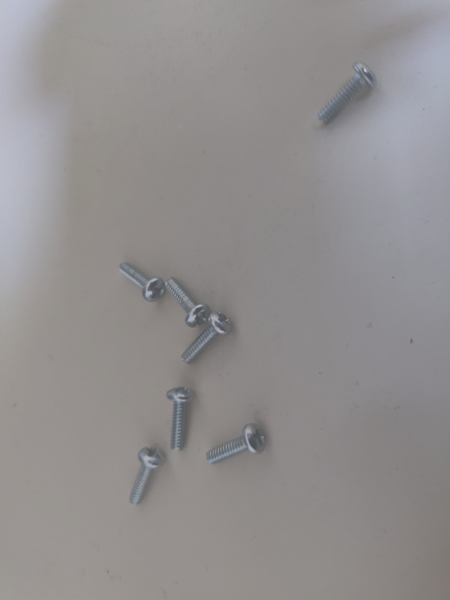shortscrew: (317, 62, 379, 126), (181, 312, 233, 365), (207, 424, 266, 465), (165, 277, 211, 328), (129, 447, 165, 506), (166, 388, 196, 450), (119, 262, 165, 302)
